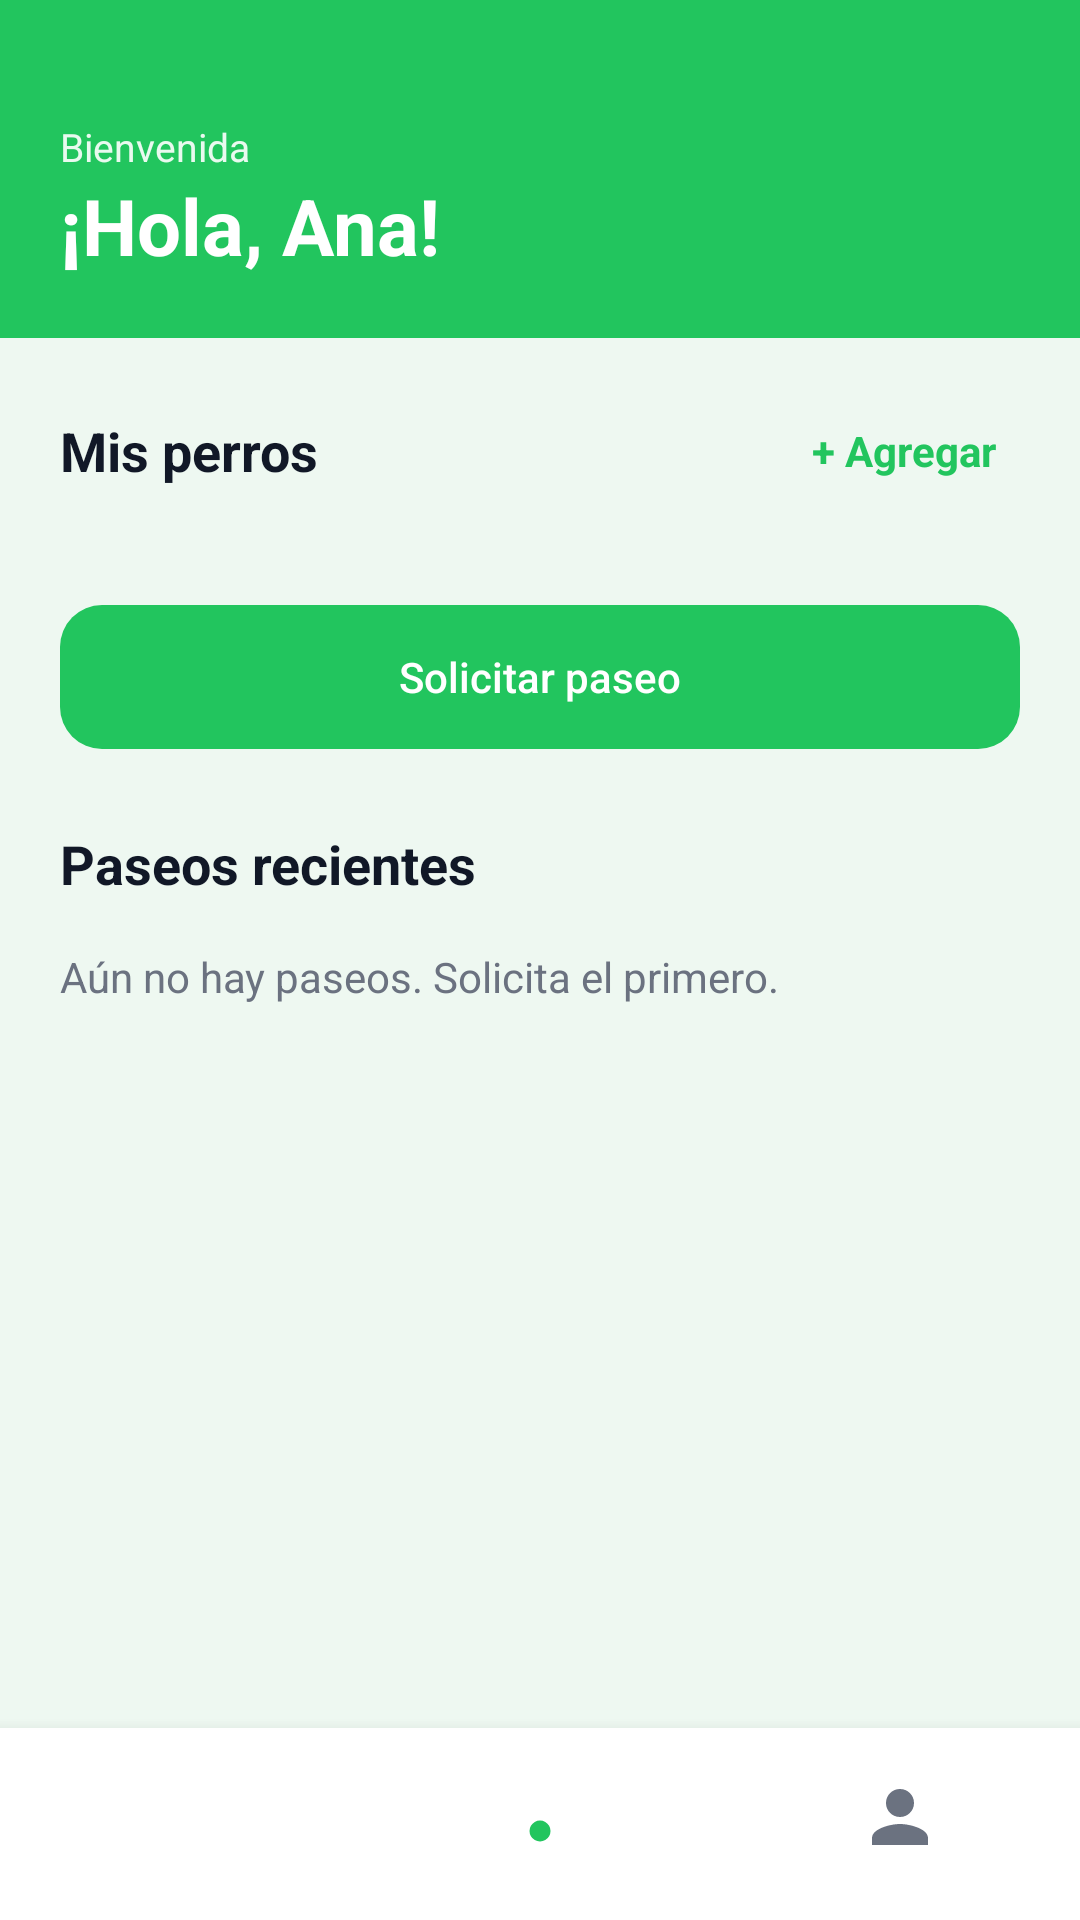

Icon bounding boxes for this 1080×1920 phone screenshot, format [left=x1, top=y1, right=x2, bottom=y2]:
perfil: [left=872, top=1789, right=928, bottom=1845]
